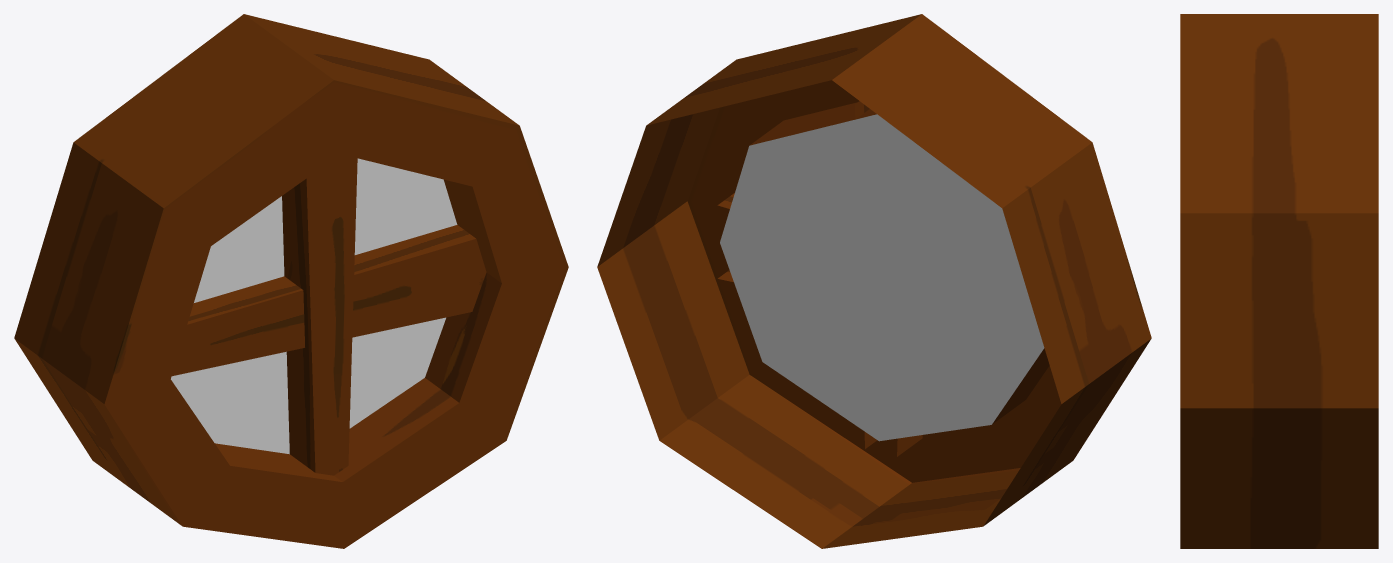
Rendered from SM_BLD_window_v07_02.fbx.
3 views of the same model, side by side, from view 1: azimuth 30°, elevation 25°; view 2: azimuth 150°, elevation 25°; view 3: azimuth 270°, elevation 25° (orthographic). The views are drawn at different scales.
Parts seen in each view (by area): view 1: SM_BLD_window_v07_02; view 2: SM_BLD_window_v07_02; view 3: SM_BLD_window_v07_02.
Part boxes in pixels (x1,y1,x2,y2): SM_BLD_window_v07_02: (14,14,568,548); SM_BLD_window_v07_02: (597,14,1151,548); SM_BLD_window_v07_02: (1180,14,1378,548).
Size of the model in its own units: 122 by 119 by 41.24.
